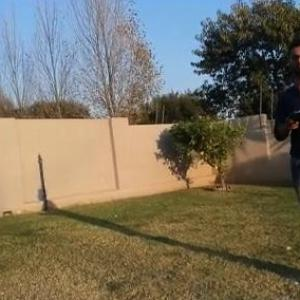follow: (268, 32, 300, 292)
